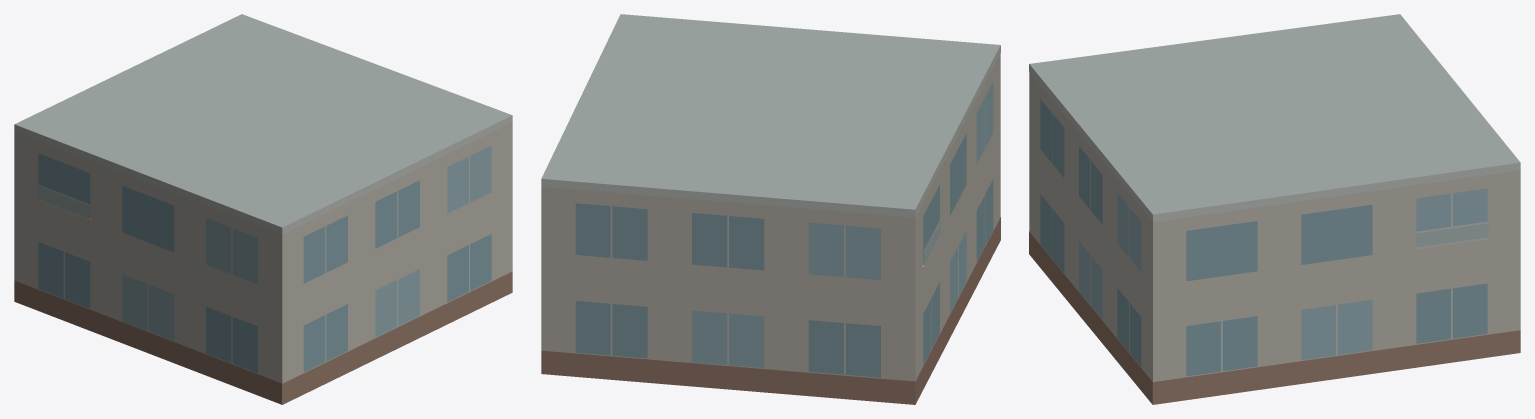
Rendered from survey-upis-32792070.glb.
3 renders of one model, left to right at view 1: azimuth 30°, elevation 25°; view 2: azimuth 150°, elevation 25°; view 3: azimuth 270°, elevation 25°, orthographic. The views are drawn at different scales.
Visible parts, largest first — view 1: survey-upis-32792070.tmp; view 2: survey-upis-32792070.tmp; view 3: survey-upis-32792070.tmp.
Part boxes in pixels (x1=…): survey-upis-32792070.tmp: x1=14, y1=14, x2=512, y2=404; survey-upis-32792070.tmp: x1=541, y1=14, x2=1000, y2=404; survey-upis-32792070.tmp: x1=1029, y1=14, x2=1520, y2=404.
Size of the model in its own units: 13.8 by 6.1 by 14.29.
